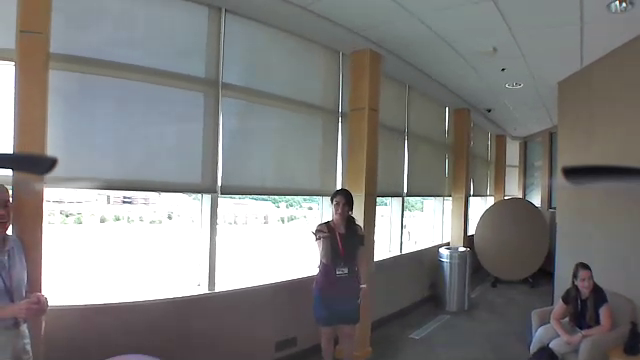land: (309, 228, 331, 243)
